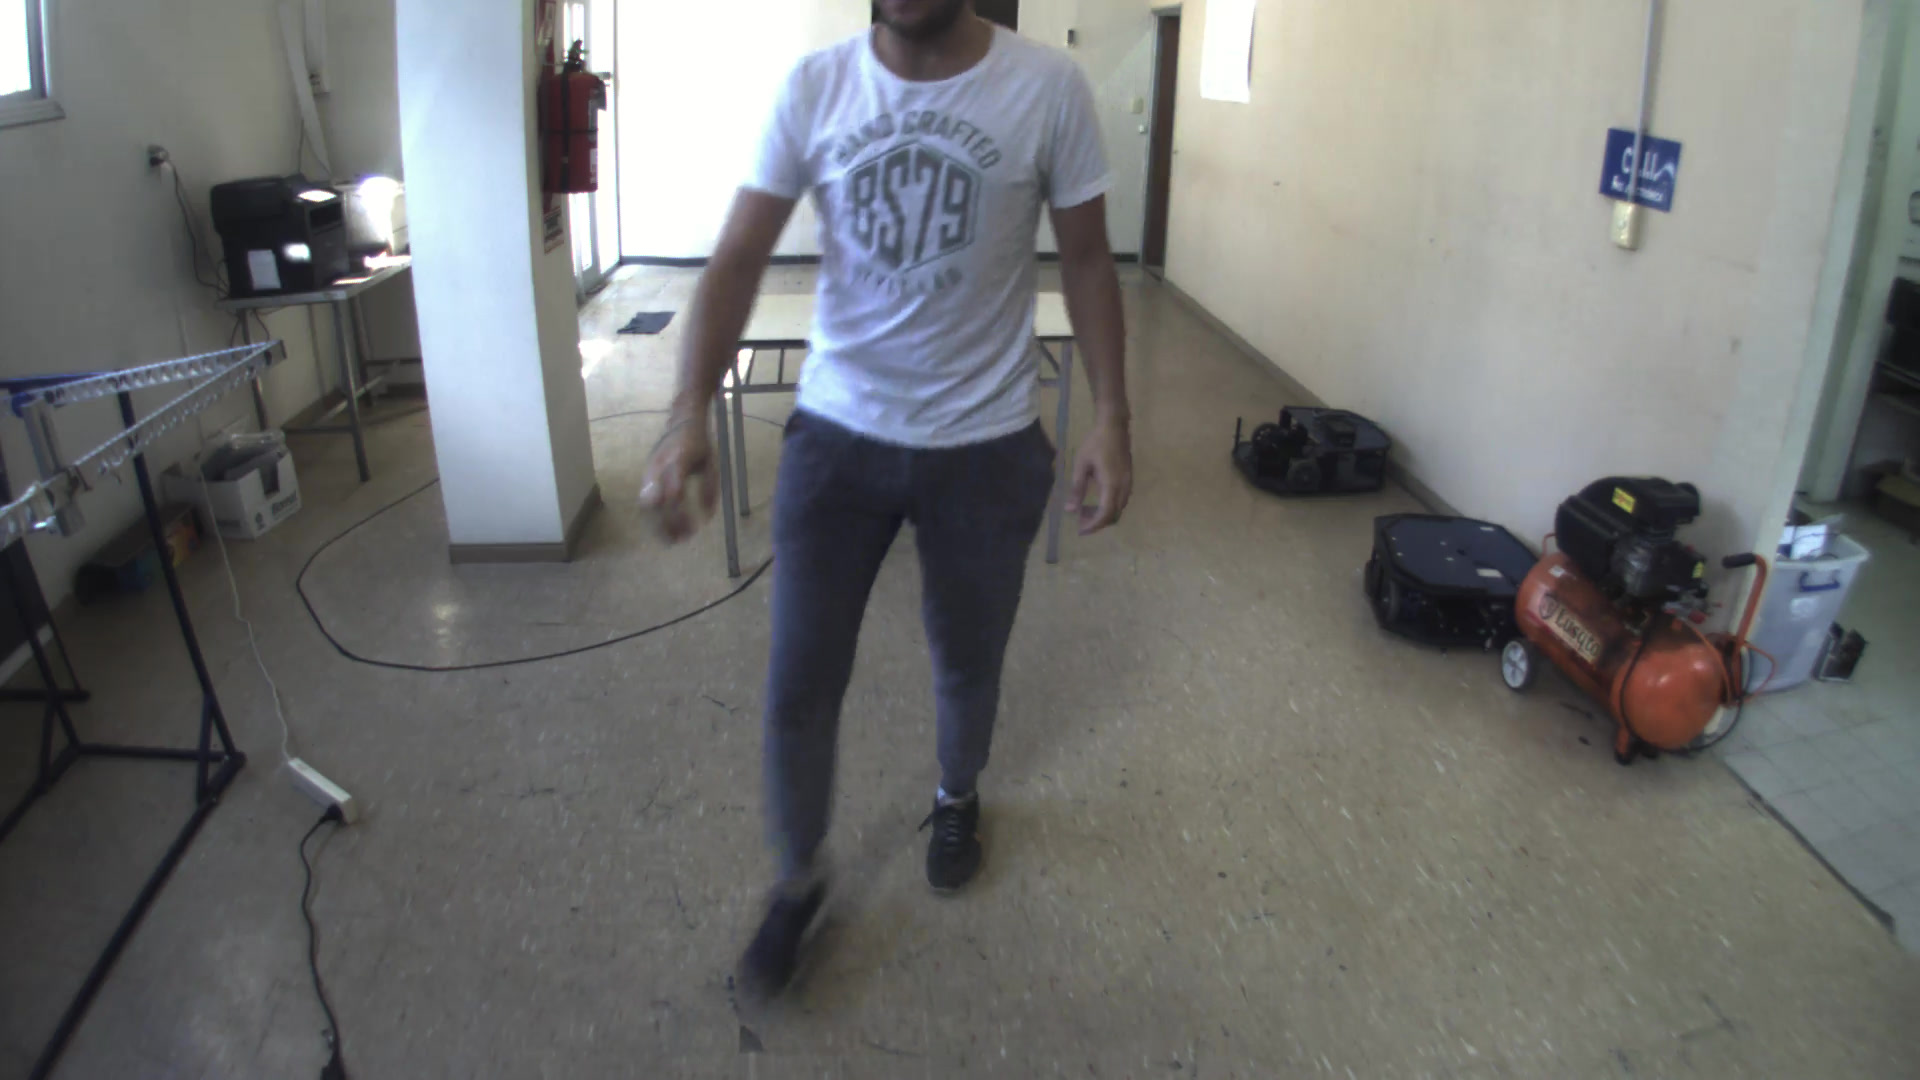hand: (629, 407, 719, 546), (1059, 411, 1147, 535)
